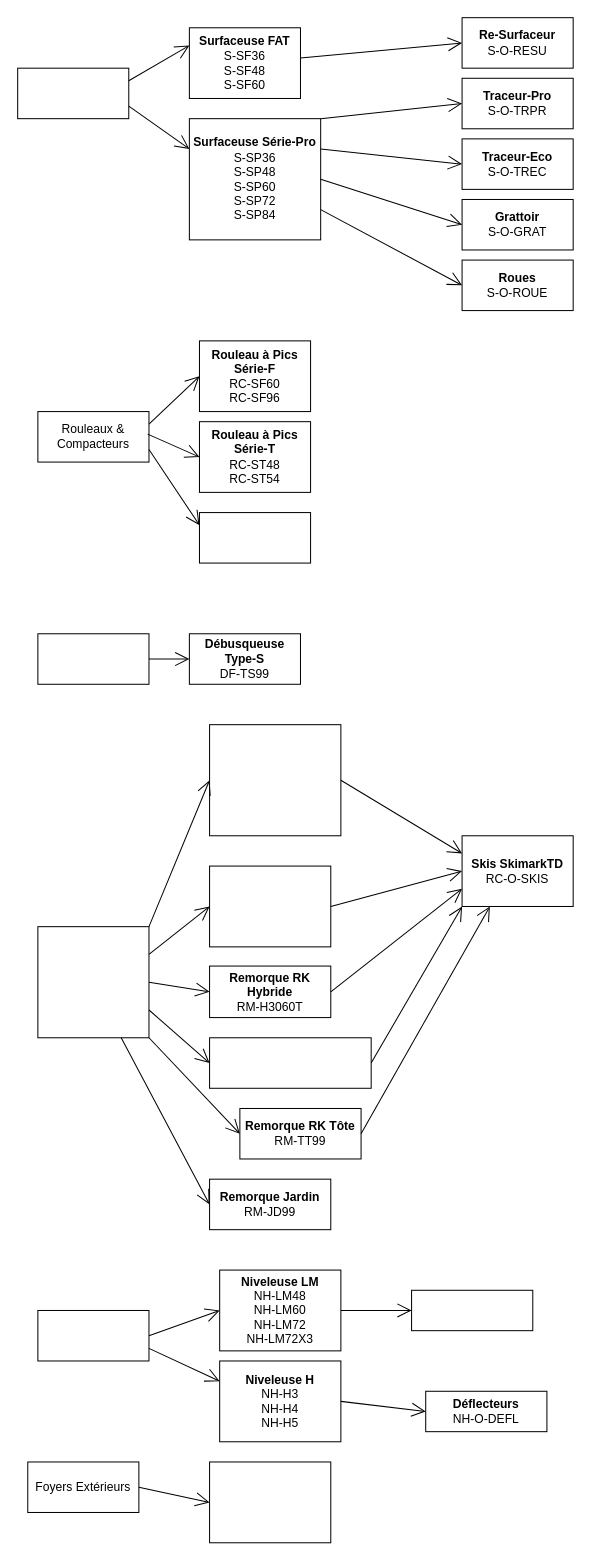
Some shapes in this 591 by 1560 pixel diagram are drawn without their labels. Each missing label, with the box of its shape:
Débuscage & Foresterie: (37, 633, 149, 684)
Foyer Extérieur Série-M F-M20 F-M26 F-M36: (209, 1461, 331, 1543)
Niveleuses & Herses: (37, 1309, 149, 1361)
Remorque RK Bascule RM-B4848SM RM-B3060SP RM-B4872TM: (209, 865, 331, 947)
Remorque RK Dompeur RM-D3060SP RM-D3060TP RM-D3672TP RM-D4872TP RM-D4872TM: (209, 724, 341, 836)
Remorque RK Déchiqueteuse RM-DT99: (209, 1037, 371, 1088)
Remorques: (37, 926, 149, 1038)
Roues NH-O-ROUE: (411, 1289, 533, 1331)
Rouleau à Neige Série-N RC-SN54: (198, 512, 311, 563)
Surfaceuses: (17, 67, 129, 119)
